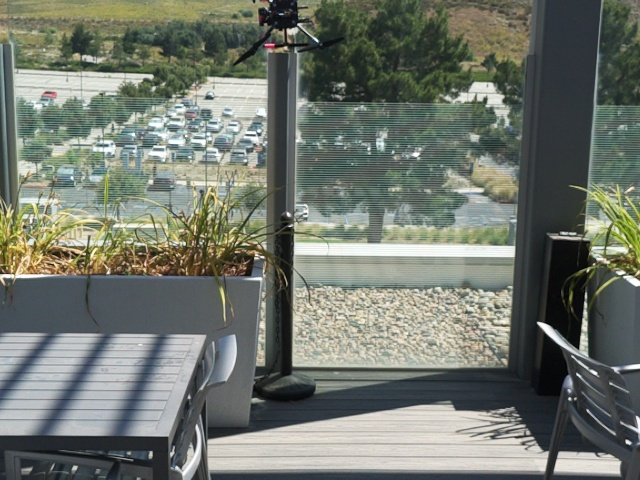quadcopter: (231, 1, 350, 66)
